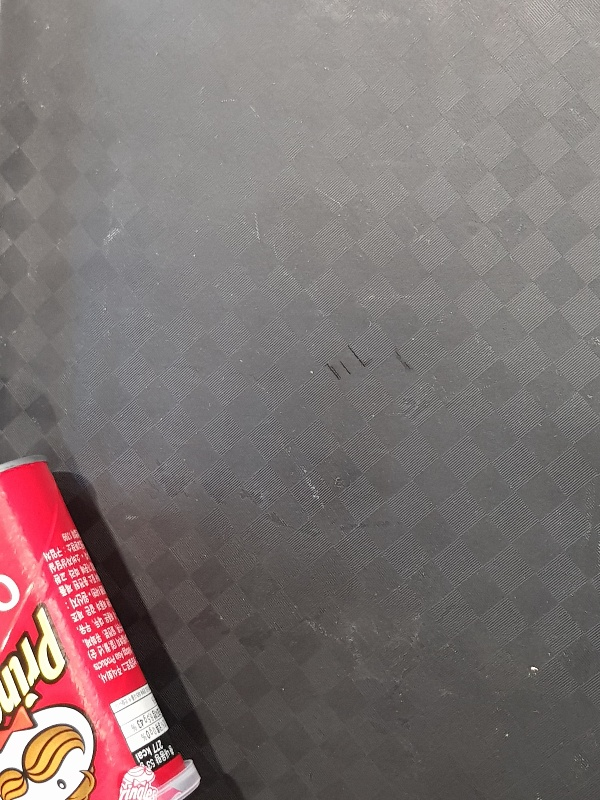Pringles Original: (1, 454, 204, 800)
